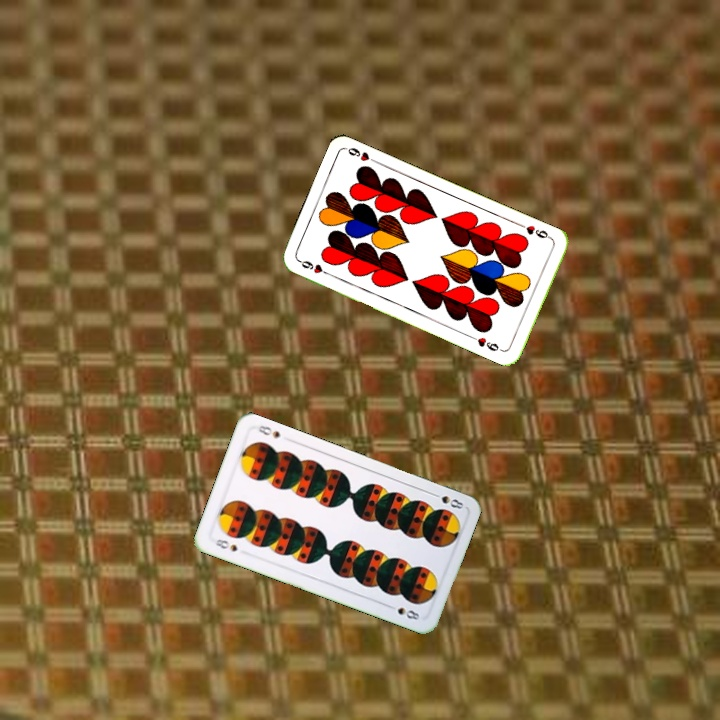H9: (516, 220, 555, 242), (295, 256, 333, 278)
S8: (427, 489, 466, 512), (211, 535, 240, 554)
